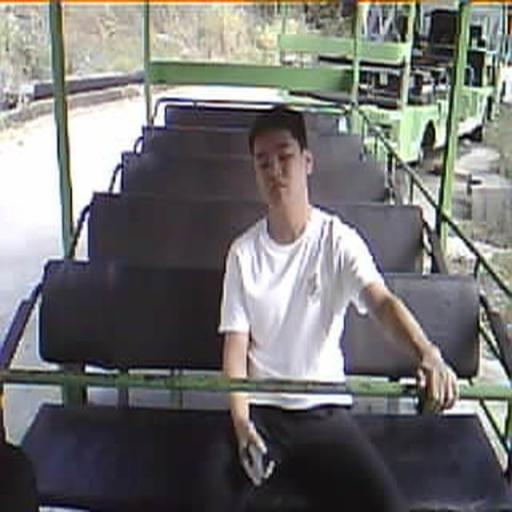persona: (216, 105, 460, 510)
